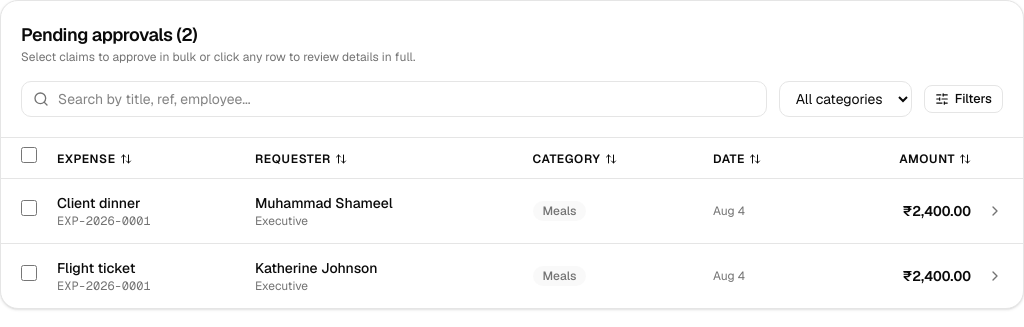
Test: ApprovalsInboxTable › filters claims by search query across title, ref, and requester name
The image size is (1024, 327).
Type "Flight" into the search field named "Search pending approvals" at (394, 99), box x1=21 y1=81 x2=767 y2=117
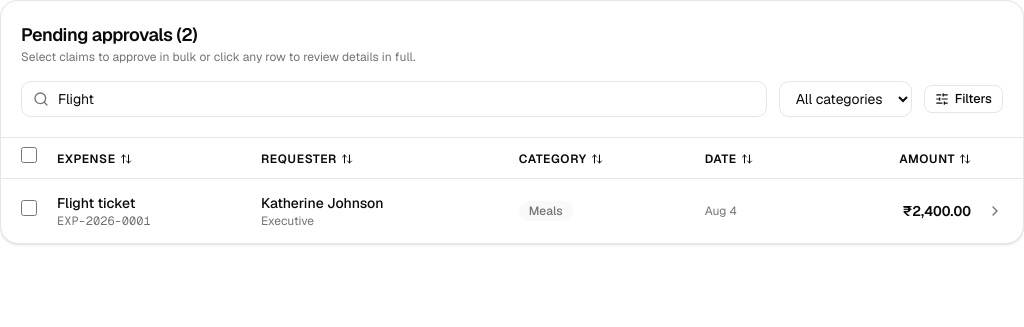
Expected: the text "Flight ticket" is shown, x1=57 y1=194 x2=135 y2=212
Expected: the text "Client dinner" is gone
Replace the text in the search field named "Search pending approvals" with "Shameel" at (394, 99), box x1=21 y1=81 x2=767 y2=117
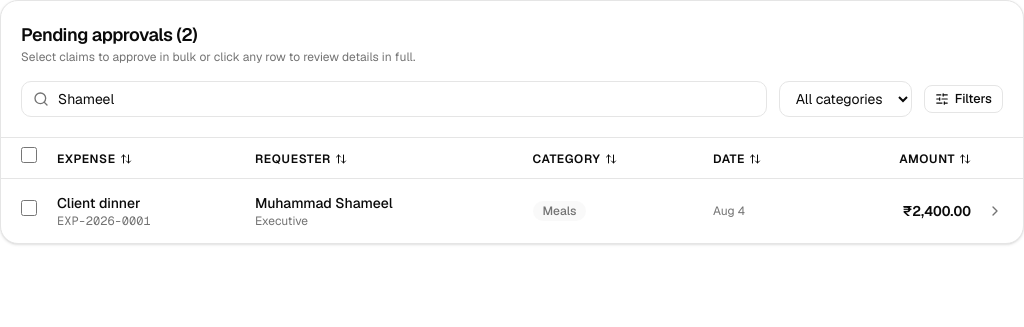
Expected: the text "Client dinner" is shown, x1=57 y1=194 x2=140 y2=212
Expected: the text "Flight ticket" is gone
